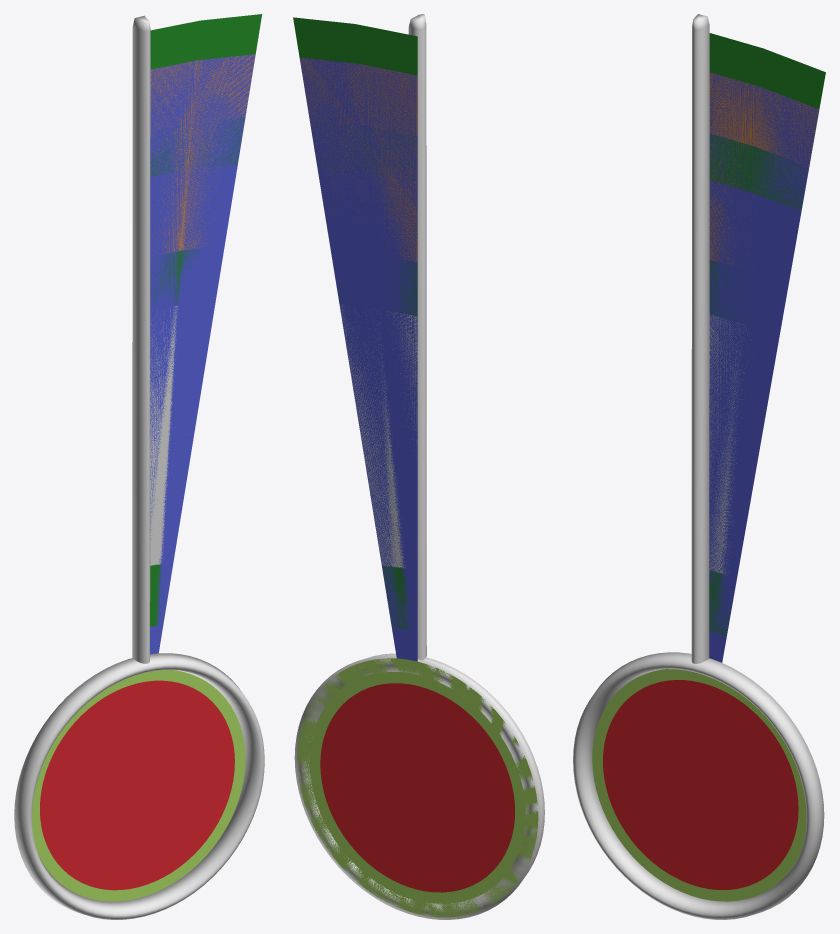
The model's file is Dart_Mouser_Mesh.fbx.
The picture shows the model from 3 angles, left to right: view 1: azimuth 30°, elevation 25°; view 2: azimuth 150°, elevation 25°; view 3: azimuth 330°, elevation 25°; orthographic projection.
Visible parts, largest first — view 1: BullsEye, Ring_A, BullsEye_Ring, line_Ring, Ring_B, Ring_C; view 2: BullsEye, Ring_A, Ring_C, BullsEye_Ring, line_Ring, Ring_B; view 3: BullsEye, Ring_B, Ring_A, BullsEye_Ring, line_Ring, Ring_C.
Boxes of the visible parts, box(x1,y1,x2,y2) form: BullsEye: box(32, 670, 245, 901); Ring_A: box(150, 14, 262, 653); BullsEye_Ring: box(14, 653, 264, 919); line_Ring: box(132, 15, 150, 663); Ring_B: box(150, 55, 255, 653); Ring_C: box(150, 54, 254, 653); BullsEye: box(297, 658, 538, 917); Ring_A: box(293, 17, 417, 661); Ring_C: box(300, 59, 417, 659); BullsEye_Ring: box(294, 653, 544, 919); line_Ring: box(408, 14, 426, 660); Ring_B: box(300, 57, 417, 661); BullsEye: box(592, 669, 806, 901); Ring_B: box(709, 72, 819, 661); Ring_A: box(709, 33, 825, 662); BullsEye_Ring: box(573, 652, 824, 919); line_Ring: box(691, 14, 709, 663); Ring_C: box(709, 73, 817, 661).
Bounding box in the file's own units: 0.345 × 1.19 × 0.0201.
